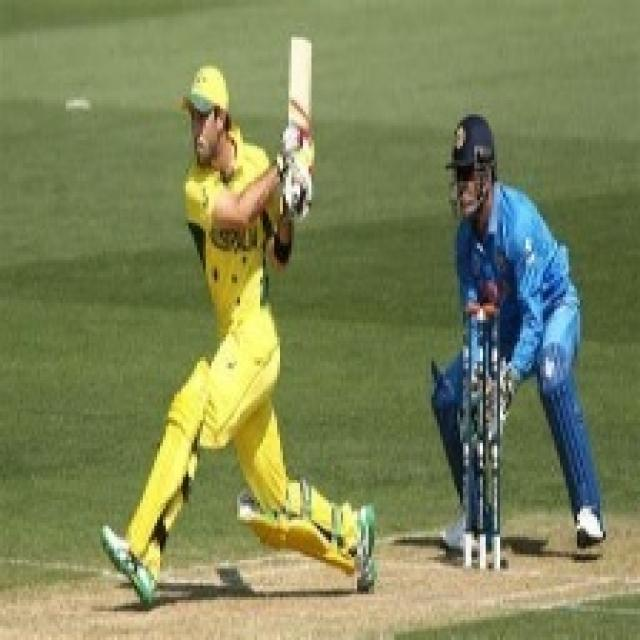batsman: (96, 28, 384, 609)
wicket: (456, 298, 514, 577)
